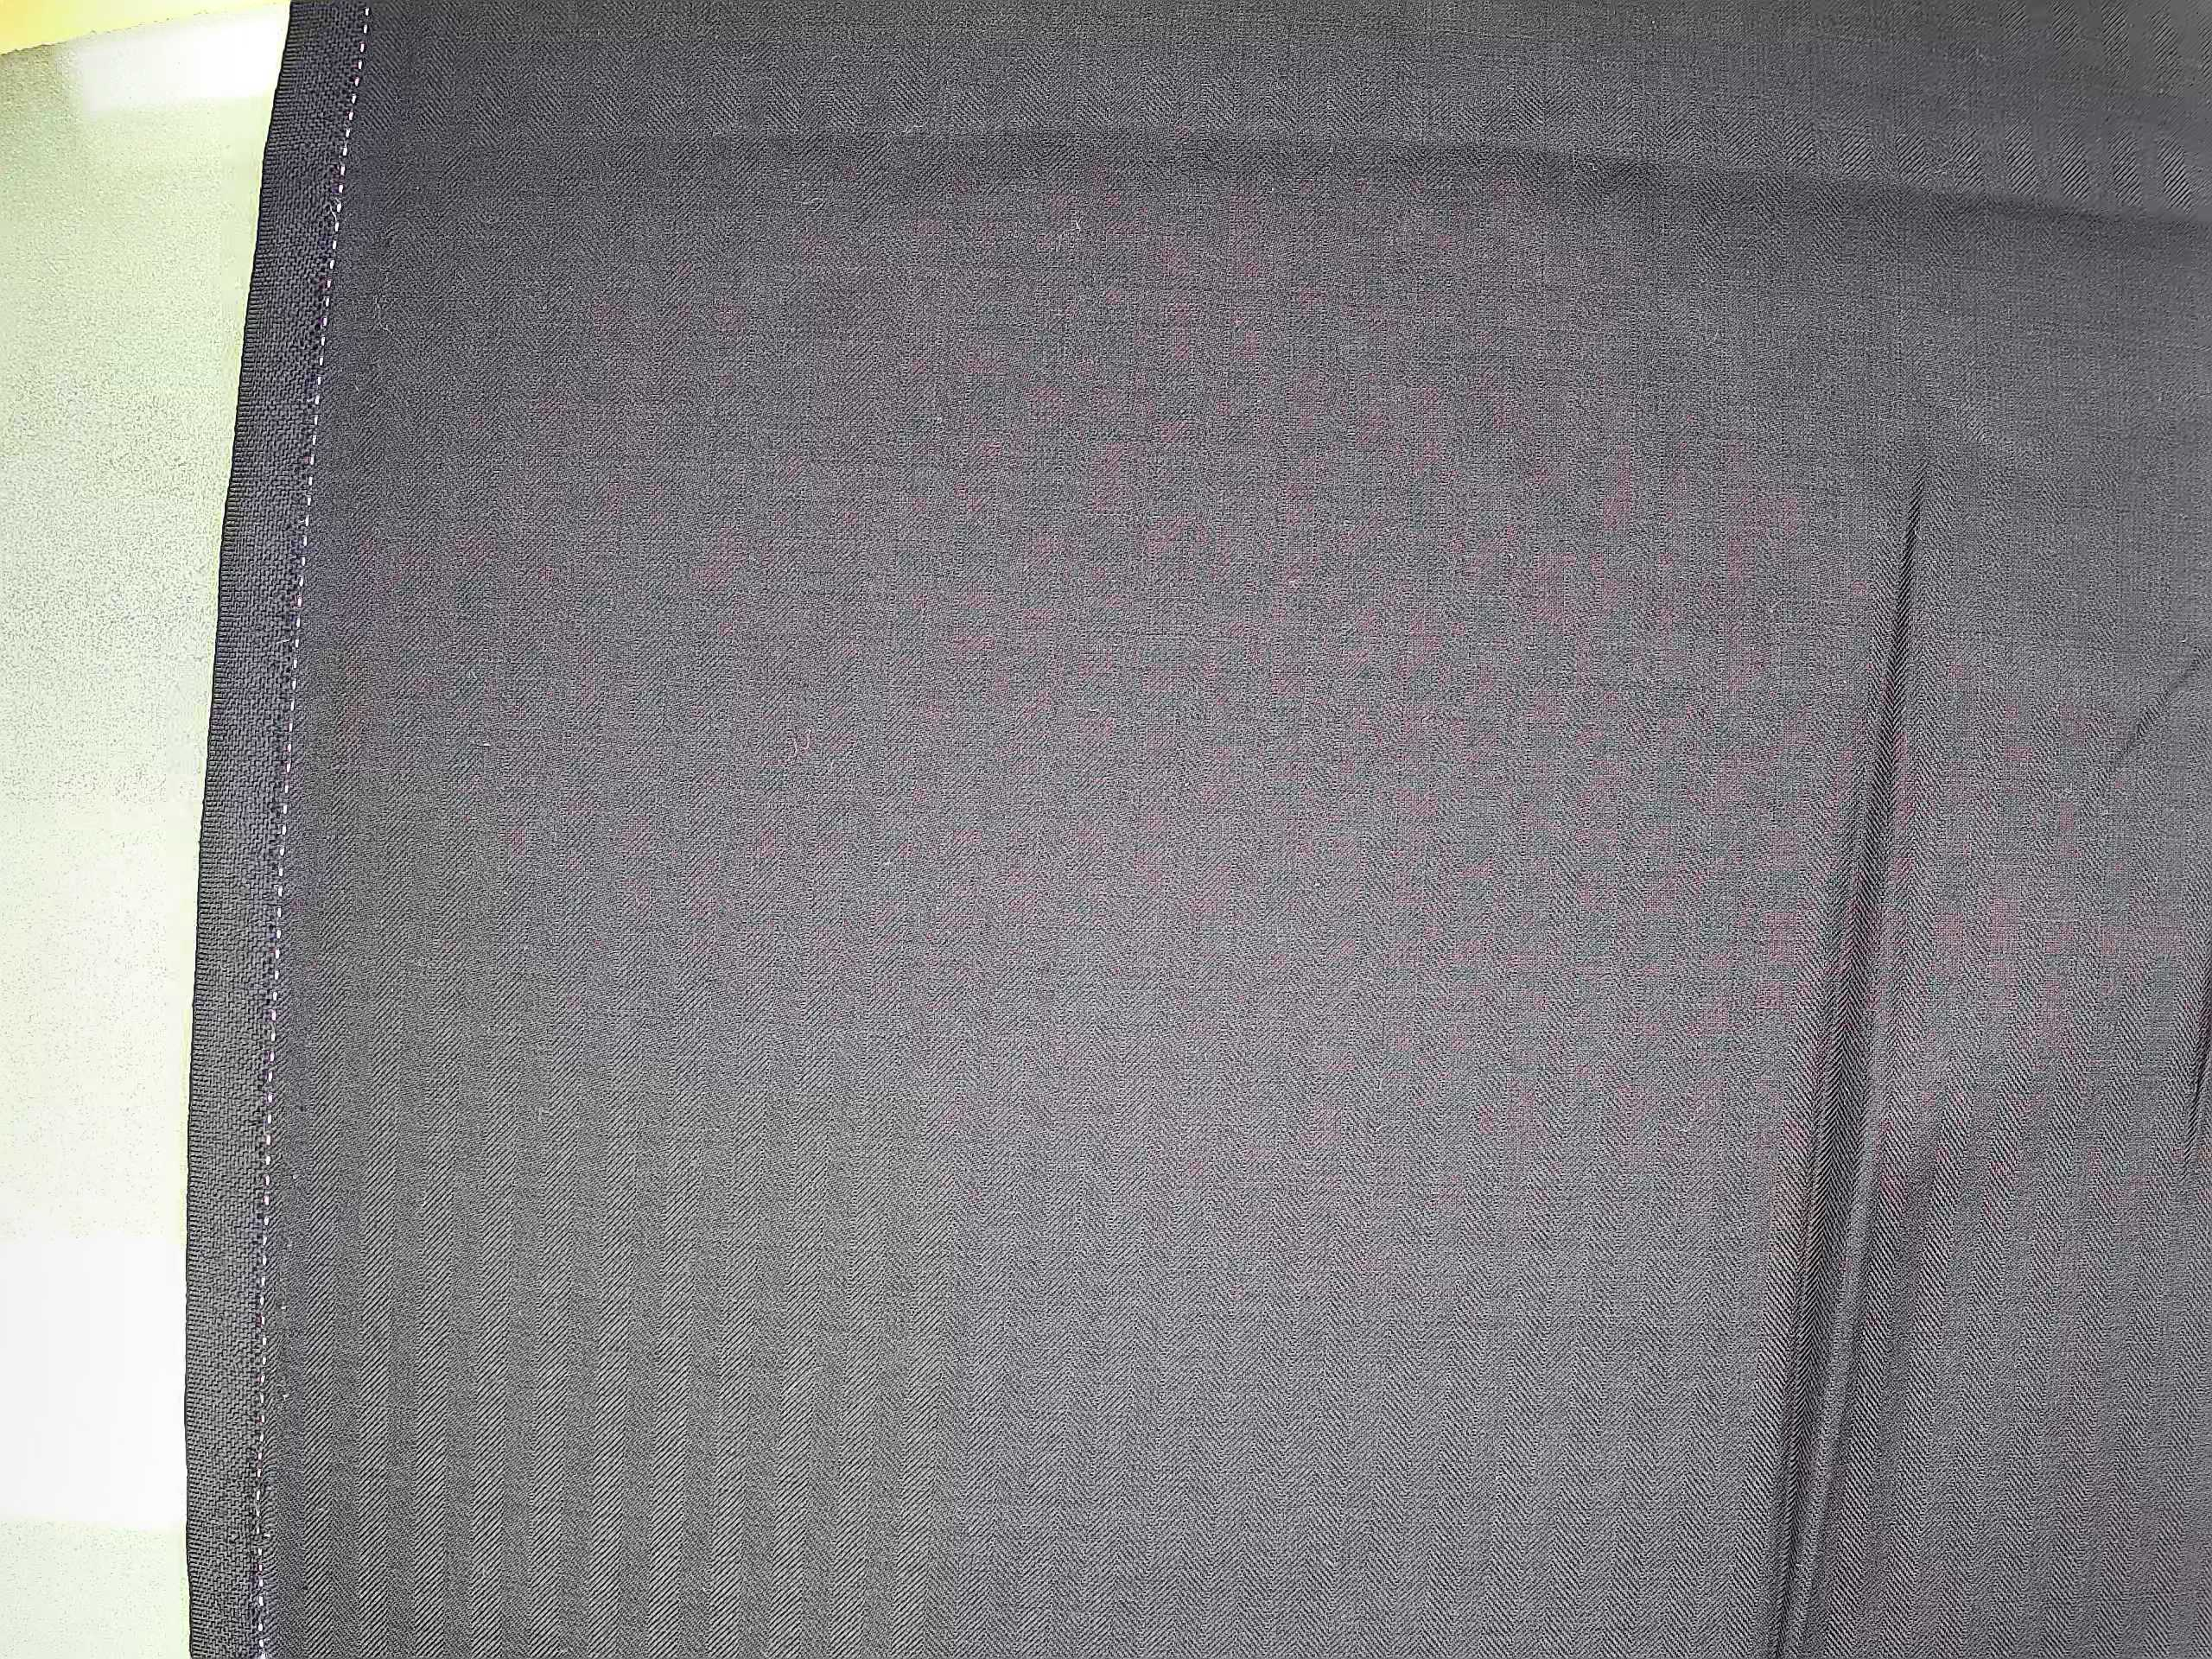others: (268, 1091, 315, 1603)
